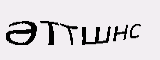К: (50, 12, 68, 33)
С: (69, 12, 81, 33)
Щ: (95, 12, 126, 35)
Э: (32, 14, 49, 37), (83, 12, 94, 32)
